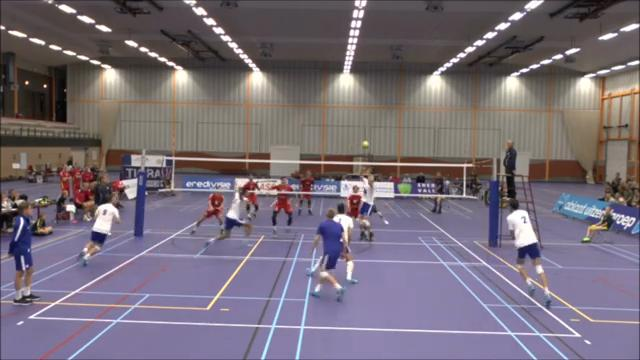alzata: (356, 163, 379, 246)
